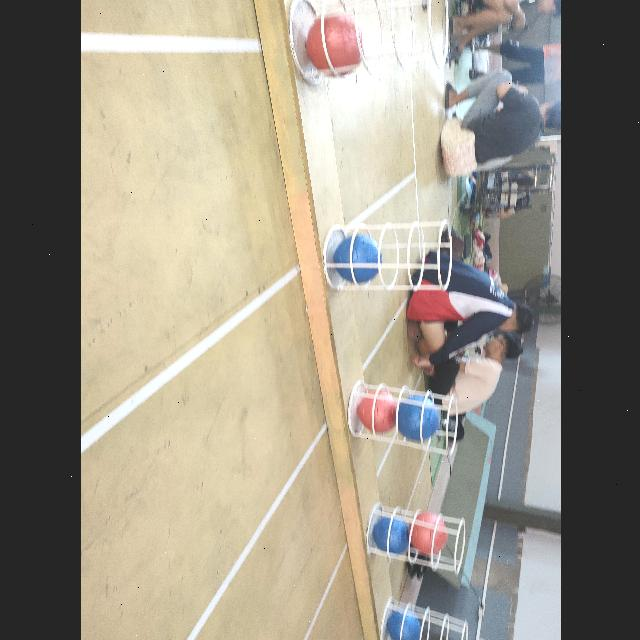B: (333, 235, 381, 283), (394, 395, 440, 441), (372, 516, 408, 556), (388, 608, 420, 640)
R: (305, 10, 365, 80), (408, 512, 448, 554), (358, 391, 396, 432)
